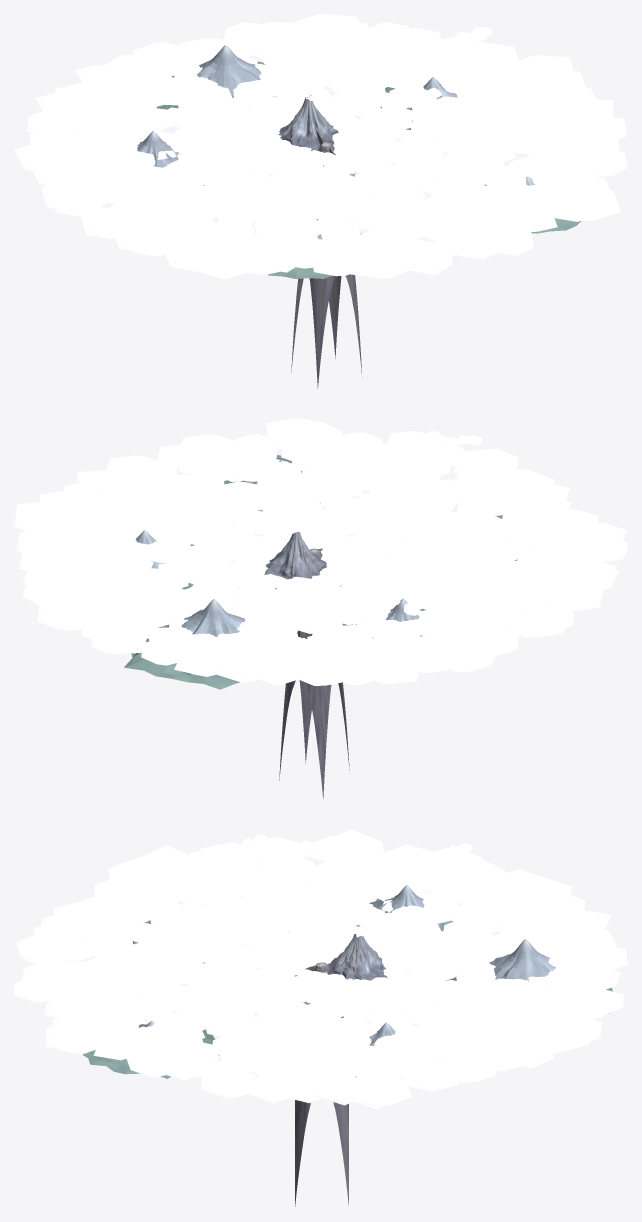
Rendered from plateau.glb.
3 renders of one model, top to bottom at view 1: azimuth 30°, elevation 25°; view 2: azimuth 150°, elevation 25°; view 3: azimuth 270°, elevation 25°, orthographic.
Visible parts, largest first — view 1: Plateau_Clouds, Plateau_Backdrop, Plateau_Terrain; view 2: Plateau_Clouds, Plateau_Backdrop, Plateau_Terrain; view 3: Plateau_Clouds, Plateau_Backdrop, Plateau_Terrain.
Boxes of the visible parts, bbox=[...] form: Plateau_Clouds: bbox=[14, 14, 627, 279]; Plateau_Backdrop: bbox=[137, 45, 581, 278]; Plateau_Terrain: bbox=[291, 128, 362, 388]; Plateau_Clouds: bbox=[14, 418, 627, 685]; Plateau_Backdrop: bbox=[124, 455, 517, 689]; Plateau_Terrain: bbox=[279, 548, 349, 798]; Plateau_Clouds: bbox=[14, 829, 627, 1109]; Plateau_Backdrop: bbox=[82, 885, 612, 1078]; Plateau_Terrain: bbox=[295, 958, 348, 1206].
Size of the model in its own units: 3703 by 1899 by 3618.
